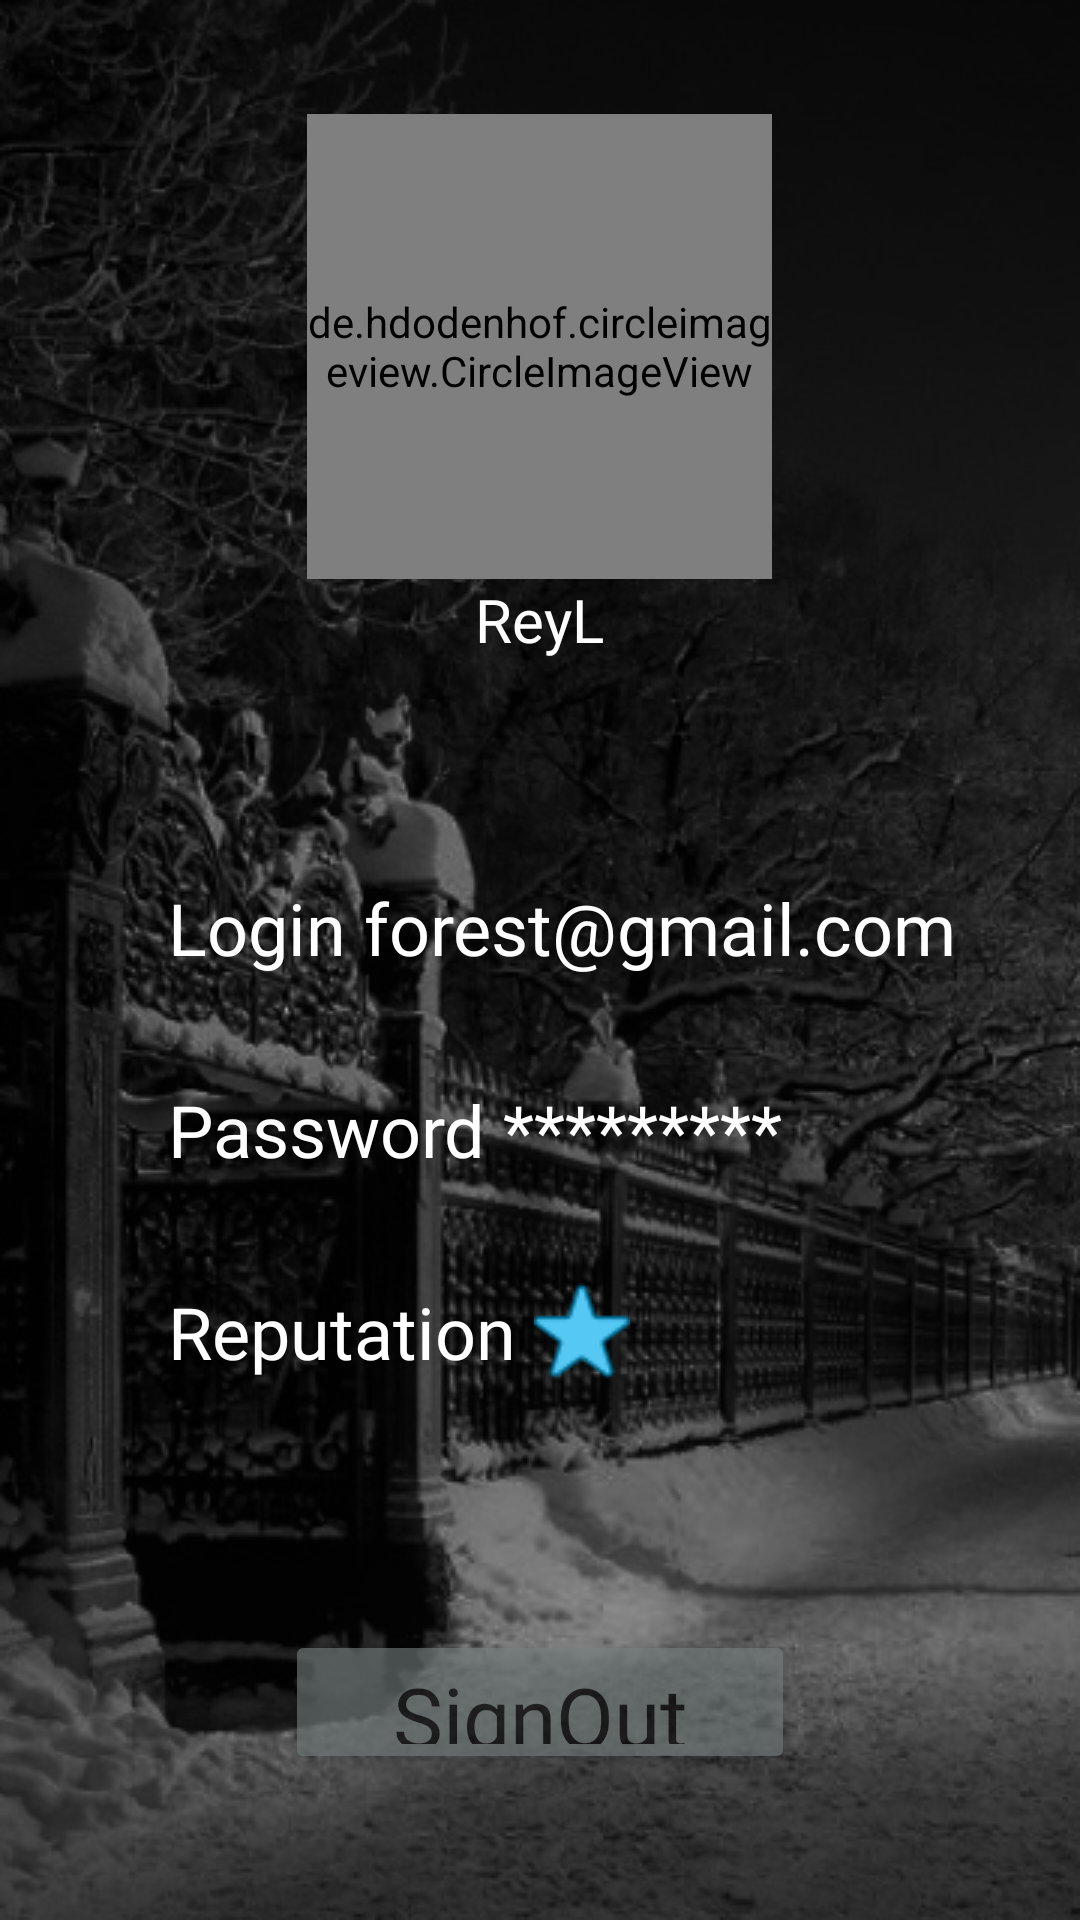

Icon click points for this 1080 × 1920 phone screenshot, format (x,y):
one star: (582,1331)
